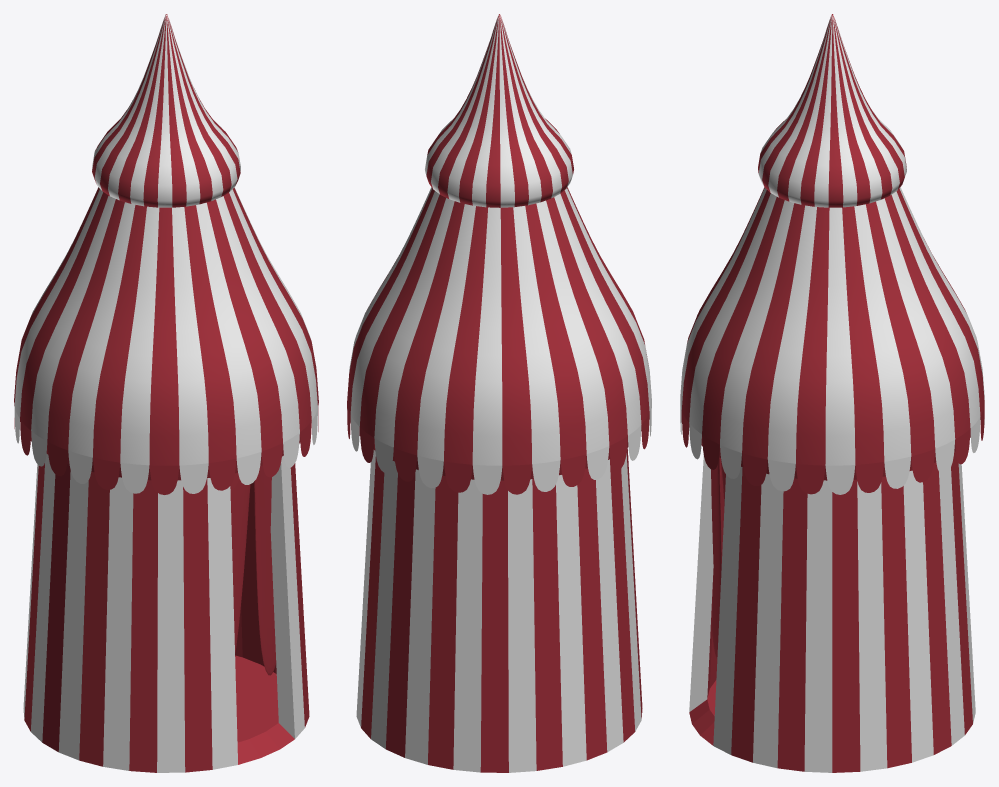
The model's file is SmallTent.fbx.
The picture shows the model from 3 angles, left to right: view 1: azimuth 30°, elevation 25°; view 2: azimuth 150°, elevation 25°; view 3: azimuth 270°, elevation 25°; orthographic projection.
Parts seen in each view (by area): view 1: Cylinder.007; view 2: Cylinder.007; view 3: Cylinder.007.
Part boxes in pixels (x1,y1,x2,y2): Cylinder.007: (14, 14, 318, 772); Cylinder.007: (347, 14, 651, 772); Cylinder.007: (680, 14, 984, 772).
Size of the model in its own units: 279 by 705 by 279.
